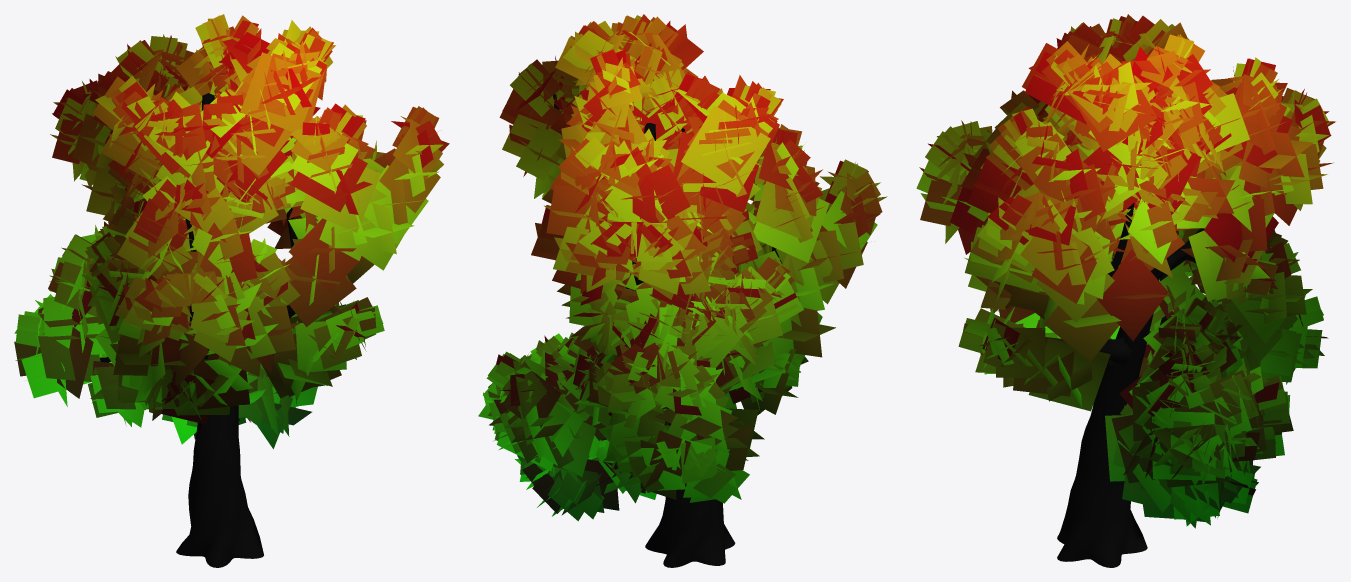
The model's file is env_tree_bg_qt_twisted_3.fbx.
The picture shows the model from 3 angles, left to right: view 1: azimuth 30°, elevation 25°; view 2: azimuth 150°, elevation 25°; view 3: azimuth 270°, elevation 25°; orthographic projection. The views are drawn at different scales.
Visible parts, largest first — view 1: env_tree_bg_qt_twisted_3; view 2: env_tree_bg_qt_twisted_3; view 3: env_tree_bg_qt_twisted_3.
Boxes of the visible parts, left/top/right/bottom form: env_tree_bg_qt_twisted_3: left=14, top=14, right=449, bottom=567; env_tree_bg_qt_twisted_3: left=478, top=14, right=887, bottom=567; env_tree_bg_qt_twisted_3: left=916, top=14, right=1335, bottom=567.
Bounding box in the file's own units: 11.36 × 16.07 × 11.51.
